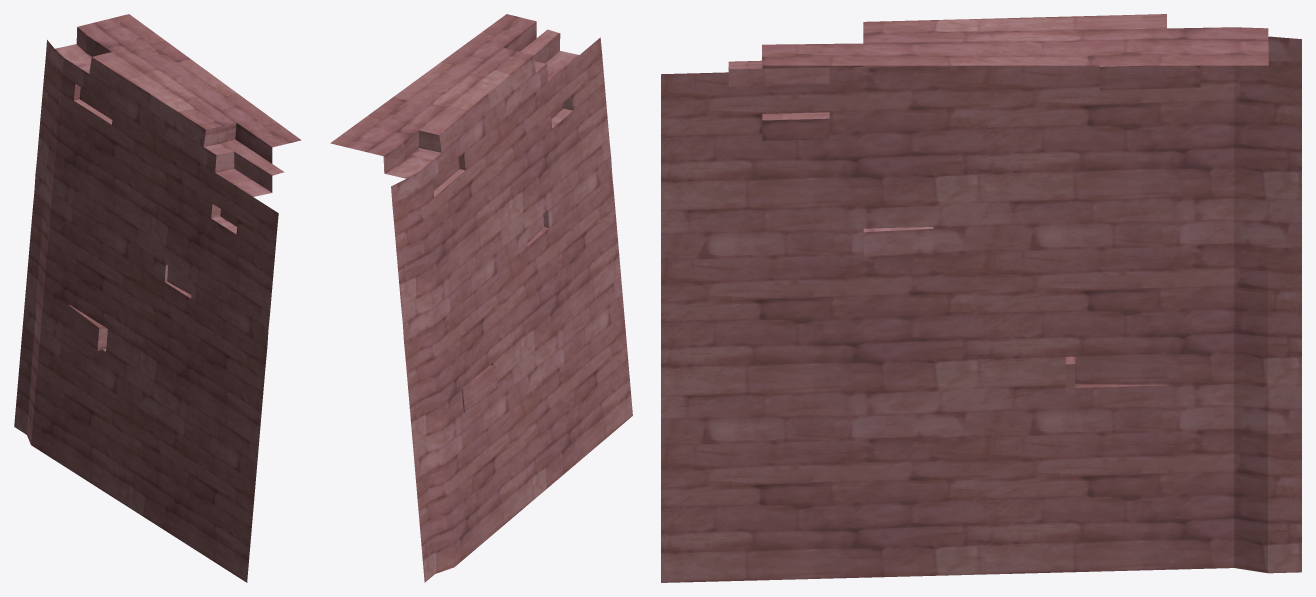
Rendered from SM_ENV_KNFRST_MassiveRuinBase.FBX.
3 renders of one model, left to right at view 1: azimuth 30°, elevation 25°; view 2: azimuth 150°, elevation 25°; view 3: azimuth 270°, elevation 25°, orthographic. The views are drawn at different scales.
Parts seen in each view (by area): view 1: SM_ENV_KNFRST_MassiveRuinBase; view 2: SM_ENV_KNFRST_MassiveRuinBase; view 3: SM_ENV_KNFRST_MassiveRuinBase.
Part boxes in pixels (x1,y1,x2,y2): SM_ENV_KNFRST_MassiveRuinBase: [14, 14, 301, 582]; SM_ENV_KNFRST_MassiveRuinBase: [330, 14, 632, 582]; SM_ENV_KNFRST_MassiveRuinBase: [661, 14, 1301, 582].
Size of the model in its own units: 551 by 1898 by 1896.
